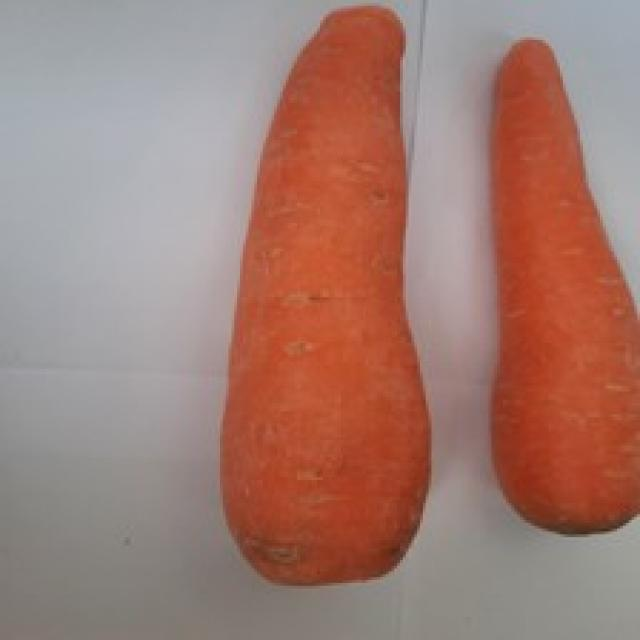carrot: (223, 7, 432, 583), (489, 35, 640, 533)
